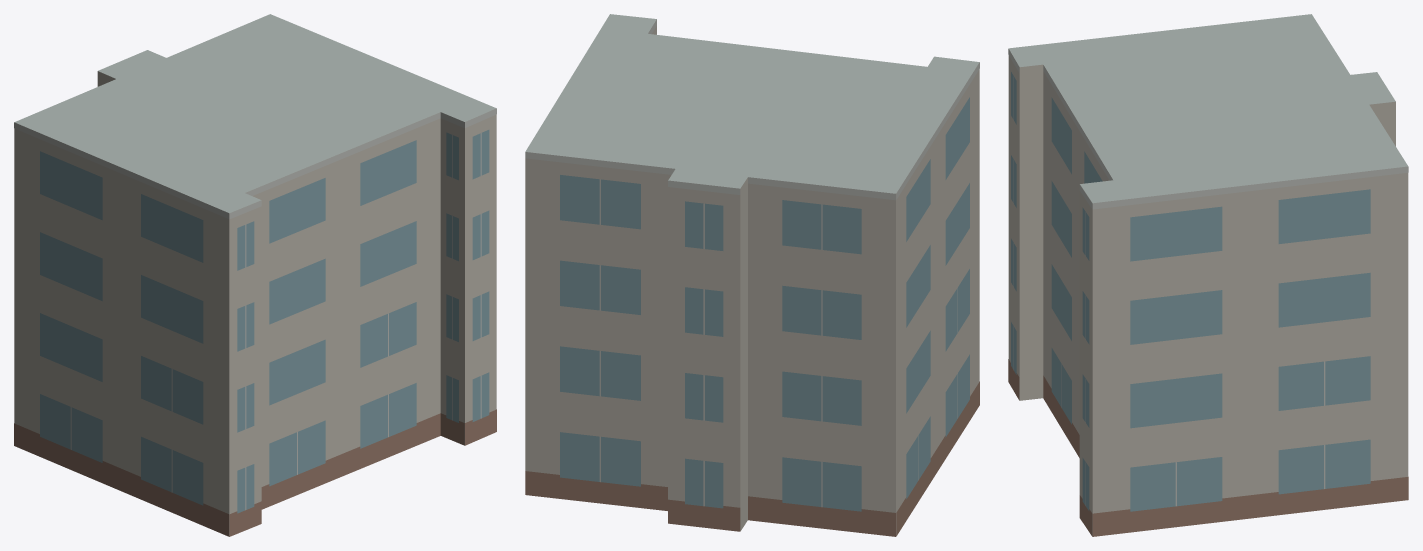
Rendered from survey-upis-32704930.glb.
3 views of the same model, side by side, from view 1: azimuth 30°, elevation 25°; view 2: azimuth 150°, elevation 25°; view 3: azimuth 270°, elevation 25° (orthographic). The views are drawn at different scales.
Parts seen in each view (by area): view 1: survey-upis-32704930.tmp; view 2: survey-upis-32704930.tmp; view 3: survey-upis-32704930.tmp.
Boxes of the visible parts, <box> form: survey-upis-32704930.tmp: <box>14,14,496,536</box>; survey-upis-32704930.tmp: <box>525,14,979,536</box>; survey-upis-32704930.tmp: <box>1008,14,1408,536</box>.
Size of the model in its own units: 15.7 by 12.9 by 14.03.
